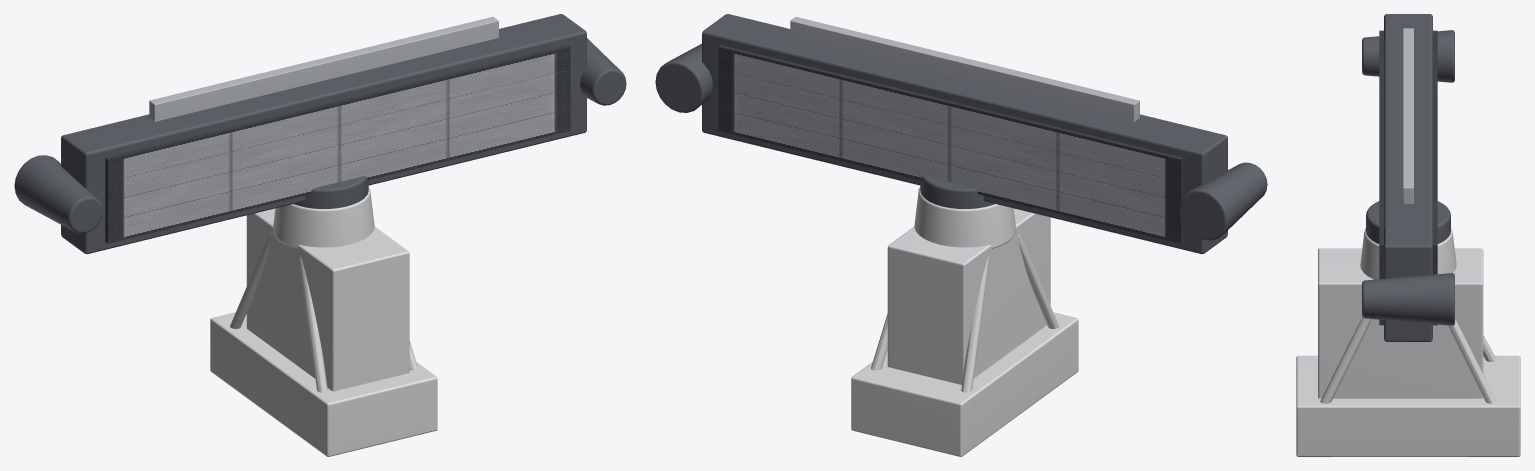
The model's file is mod_dorsal_search_radar.glb.
3 renders of one model, left to right at view 1: azimuth 30°, elevation 25°; view 2: azimuth 150°, elevation 25°; view 3: azimuth 270°, elevation 25°, orthographic. The views are drawn at different scales.
Visible parts, largest first — view 1: SearchRadar_Pylon, SearchRadar_PlanarFace_Aft, SearchRadar_Housing, SearchRadar_IFF_Bar; view 2: SearchRadar_Pylon, SearchRadar_PlanarFace_Fwd, SearchRadar_Housing, SearchRadar_IFF_Bar; view 3: SearchRadar_Pylon, SearchRadar_Housing, SearchRadar_IFF_Bar, SearchRadar_PlanarFace_Aft, SearchRadar_PlanarFace_Fwd.
Boxes of the visible parts, bbox=[...] form: SearchRadar_Pylon: bbox=[210, 187, 437, 456]; SearchRadar_PlanarFace_Aft: bbox=[105, 45, 570, 243]; SearchRadar_Housing: bbox=[14, 14, 626, 254]; SearchRadar_IFF_Bar: bbox=[149, 17, 498, 121]; SearchRadar_Pylon: bbox=[851, 187, 1078, 456]; SearchRadar_PlanarFace_Fwd: bbox=[718, 45, 1183, 243]; SearchRadar_Housing: bbox=[655, 14, 1267, 254]; SearchRadar_IFF_Bar: bbox=[790, 17, 1139, 121]; SearchRadar_Pylon: bbox=[1296, 228, 1520, 456]; SearchRadar_Housing: bbox=[1362, 14, 1454, 341]; SearchRadar_IFF_Bar: bbox=[1403, 28, 1413, 204]; SearchRadar_PlanarFace_Aft: bbox=[1379, 30, 1383, 325]; SearchRadar_PlanarFace_Fwd: bbox=[1433, 30, 1437, 325].
Size of the model in its own units: 7.97 by 4.54 by 2.85.
4 materials, 1 textured.
